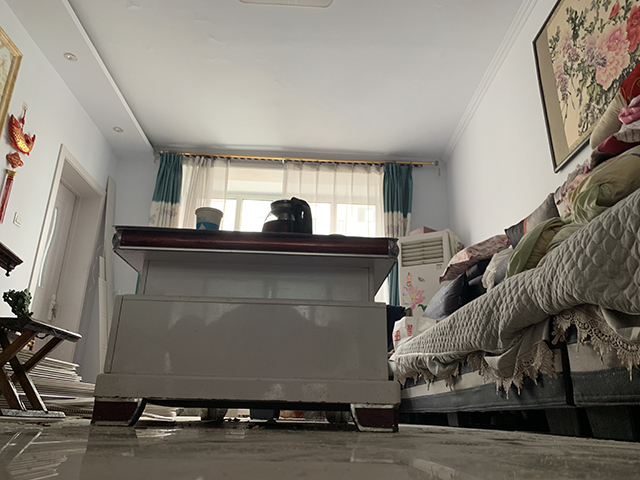sofa: (387, 61, 640, 429)
stool: (1, 315, 84, 421)
table: (87, 224, 403, 436)
